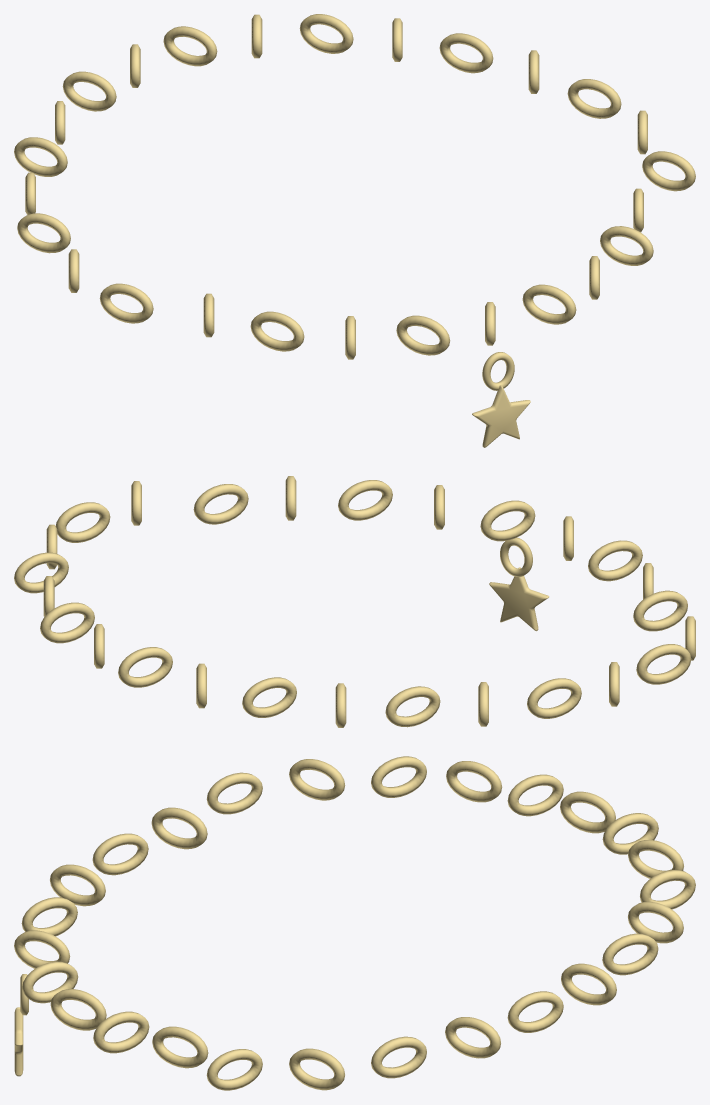
The model's file is restart_chain_gold_penguin.glb.
3 views of the same model, one above another, from view 1: azimuth 30°, elevation 25°; view 2: azimuth 150°, elevation 25°; view 3: azimuth 270°, elevation 25° (orthographic). The views are drawn at different scales.
Parts seen in each view (by area): view 1: Estrella, Eslabón.009, Eslabón.013, Eslabón.023, Eslabón.025, Eslabón.007, Eslabón.001, Eslabón.003, Eslabón.011, Eslabón.015, Eslabón.021, Eslabón.005 (+3 smaller); view 2: Estrella, Eslabón, Eslabón.022, Eslabón.010, Eslabón.024, Eslabón.016, Eslabón.004, Eslabón.020, Eslabón.012, Eslabón.014, Eslabón.018, Eslabón.002 (+14 smaller); view 3: Eslabón.010, Eslabón.011, Eslabón.022, Eslabón.003, Eslabón.021, Eslabón.019, Eslabón.023, Eslabón.007, Eslabón.009, Eslabón.017, Eslabón.004, Eslabón.006 (+15 smaller).
Boxes of the visible parts, left/top/right/bottom form: Estrella: left=472, top=385, right=530, bottom=447; Eslabón.009: left=439, top=33, right=493, bottom=73; Eslabón.013: left=163, top=26, right=217, bottom=66; Eslabón.023: left=250, top=311, right=304, bottom=351; Eslabón.025: left=396, top=315, right=450, bottom=355; Eslabón.007: left=567, top=79, right=621, bottom=118; Eslabón.001: left=522, top=284, right=576, bottom=324; Eslabón.003: left=600, top=226, right=653, bottom=265; Eslabón.011: left=299, top=14, right=353, bottom=53; Eslabón.015: left=62, top=71, right=116, bottom=111; Eslabón.021: left=99, top=283, right=153, bottom=323; Eslabón.005: left=642, top=151, right=695, bottom=191; Estrella: left=489, top=567, right=549, bottom=631; Eslabón: left=480, top=500, right=535, bottom=541; Eslabón.022: left=633, top=590, right=687, bottom=631; Eslabón.010: left=40, top=602, right=94, bottom=643; Eslabón.024: left=588, top=540, right=642, bottom=581; Eslabón.016: left=385, top=686, right=440, bottom=727; Eslabón.004: left=193, top=484, right=248, bottom=524; Eslabón.020: left=636, top=644, right=691, bottom=684; Eslabón.012: left=118, top=647, right=172, bottom=687; Eslabón.014: left=242, top=677, right=296, bottom=717; Eslabón.018: left=527, top=678, right=581, bottom=718; Eslabón.002: left=338, top=480, right=392, bottom=520; Eslabón.010: left=561, top=963, right=616, bottom=1005; Eslabón.011: left=602, top=933, right=658, bottom=975; Eslabón.022: left=151, top=807, right=207, bottom=849; Eslabón.003: left=93, top=1011, right=149, bottom=1053; Eslabón.021: left=206, top=772, right=262, bottom=814; Eslabón.019: left=371, top=756, right=426, bottom=797; Eslabón.023: left=92, top=833, right=148, bottom=875; Eslabón.007: left=371, top=1036, right=426, bottom=1078; Eslabón.009: left=507, top=991, right=563, bottom=1032; Eslabón.017: left=507, top=774, right=563, bottom=816; Eslabón.004: left=152, top=1026, right=208, bottom=1068; Eslabón.006: left=289, top=1048, right=344, bottom=1090.
Bounding box in the file's own units: 0.4975 × 0.1488 × 0.4705.
